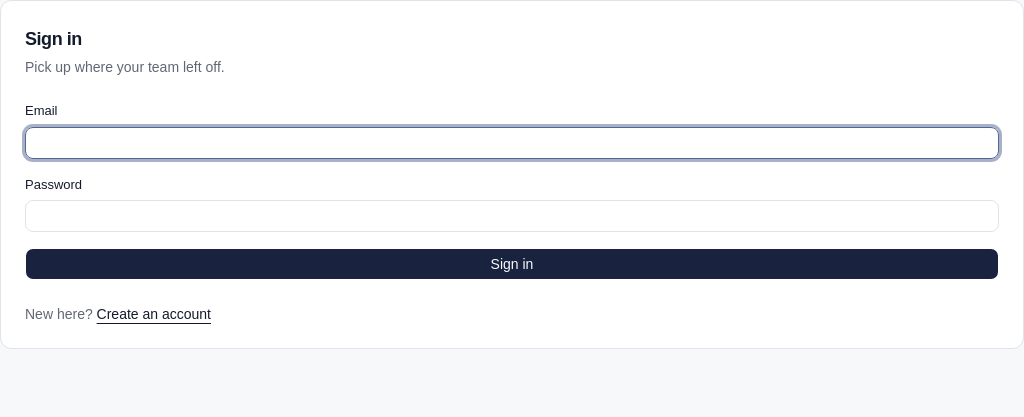
Test: LoginPage › will not submit an empty form
Click the button "Sign in": [512, 264] box 25,248 -> 999,280
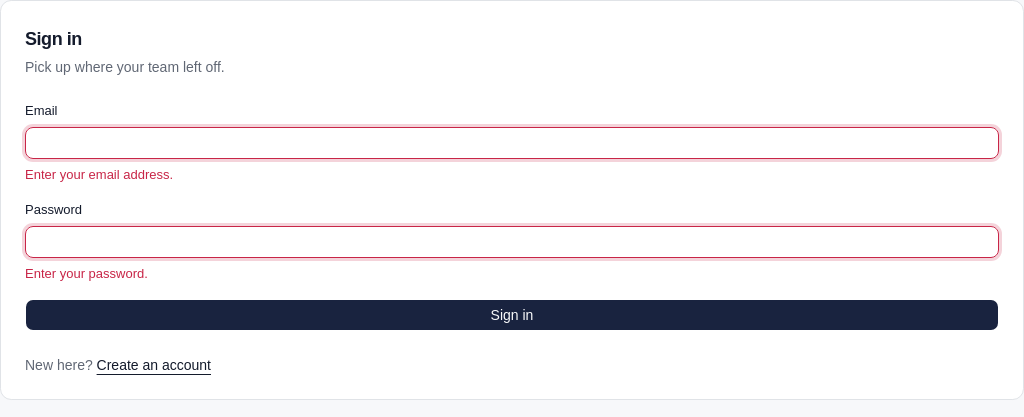
Check: the text "Enter your email address." is shown, box 25,166 -> 173,182
Check: the text "Enter your password." is shown, box 25,266 -> 148,280
